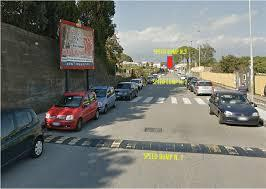Bump: (39, 131, 266, 156)
